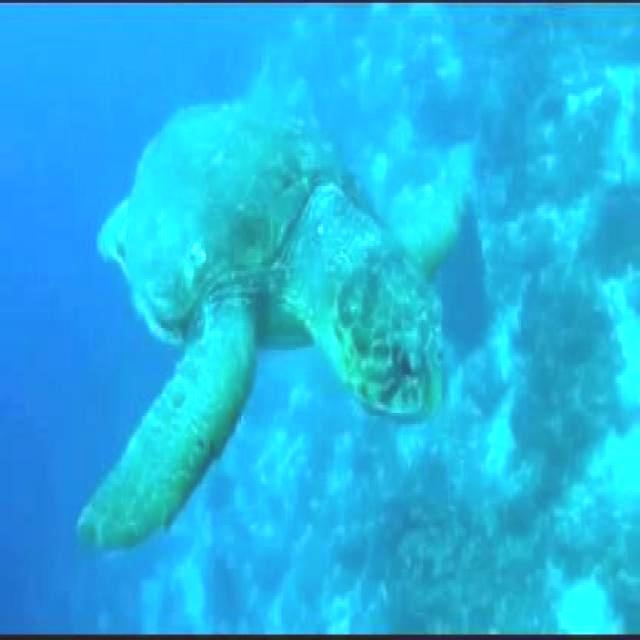Sea turtle: (68, 82, 474, 552)
